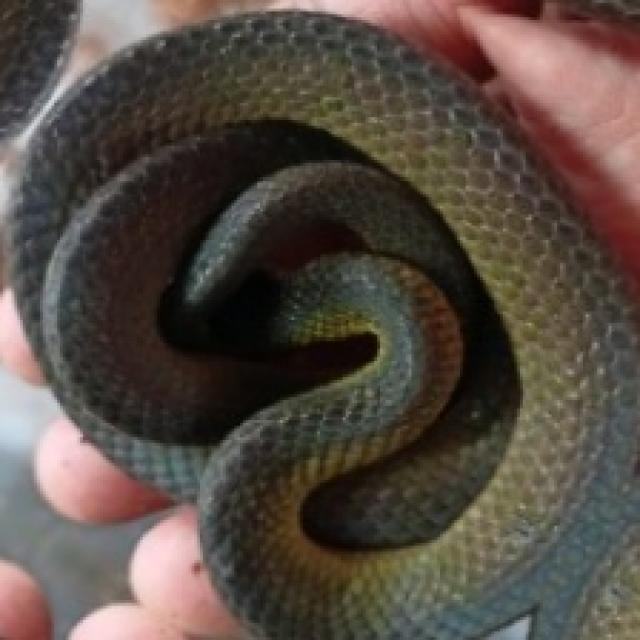gunthers philippine shrub snake: (9, 11, 637, 637), (157, 211, 377, 357), (0, 0, 79, 138), (568, 522, 640, 639), (580, 521, 640, 639)
